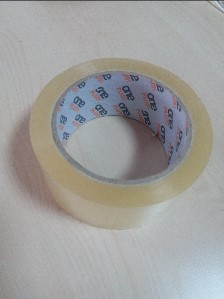band: (15, 47, 218, 235)
